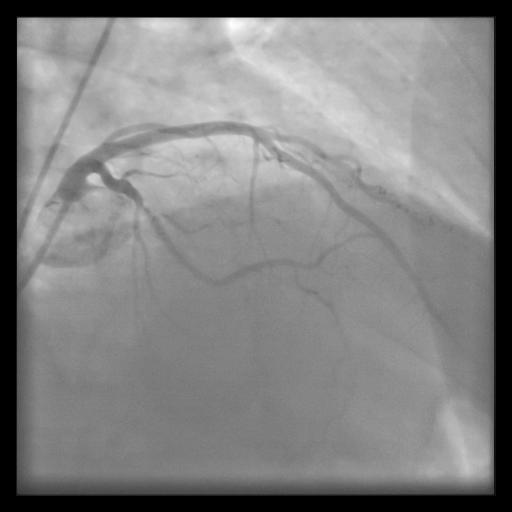Stenosis: (133, 196, 160, 228)
